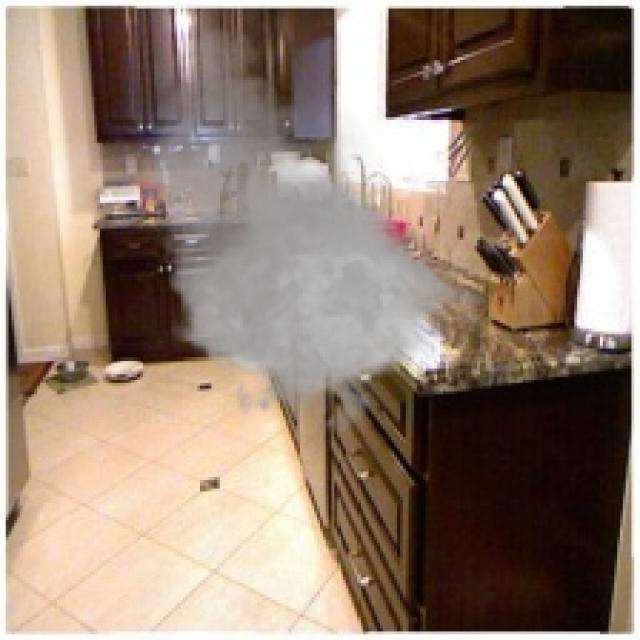smoke: (132, 20, 494, 446)
